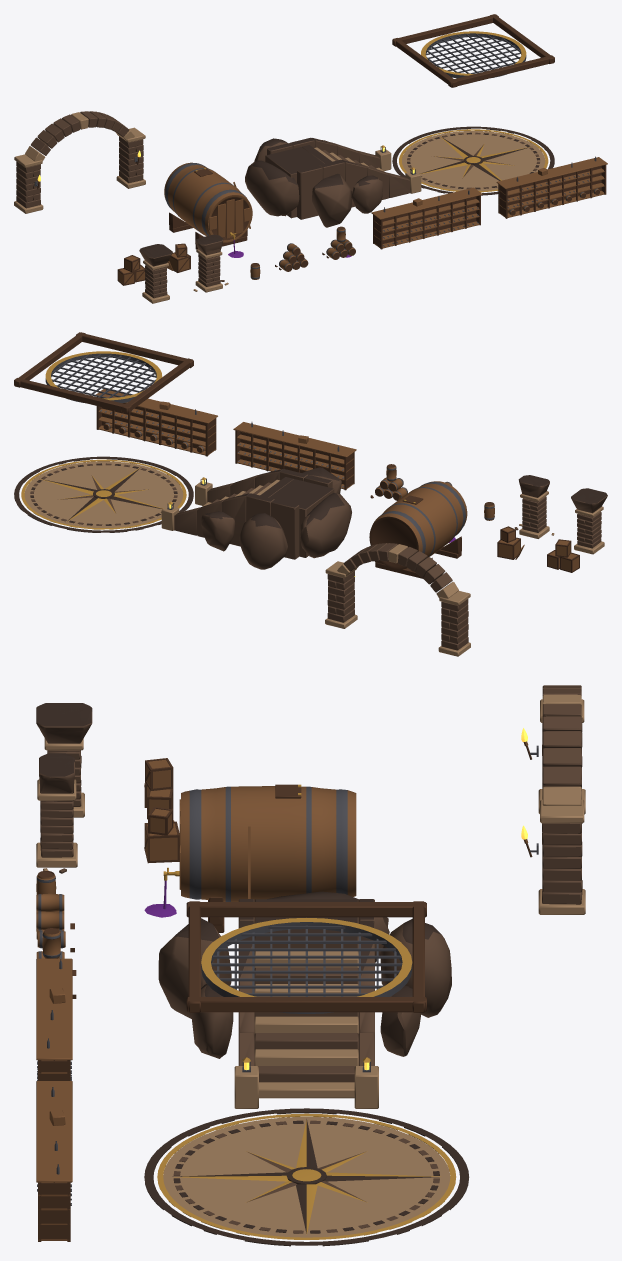
3 renders of one model, top to bottom at view 1: azimuth 30°, elevation 25°; view 2: azimuth 150°, elevation 25°; view 3: azimuth 270°, elevation 25°, orthographic. The views are drawn at different scales.
Parts seen in each view (by area): view 1: well_stairs, well_stairs_mosaic, well_stairs_grate, giant_barrel, wine_rack_b, wine_rack_a, gate_arch, gate_arch_top, brick_pillar_a, brick_pillar_b, crate_stack_a, barrel_stack_b (+2 smaller); view 2: well_stairs, well_stairs_mosaic, well_stairs_grate, giant_barrel, wine_rack_a, wine_rack_b, gate_arch, gate_arch_top, brick_pillar_a, brick_pillar_b, crate_stack_a, barrel_stack_b (+1 smaller); view 3: well_stairs_mosaic, well_stairs, giant_barrel, well_stairs_grate, wine_rack_b, gate_arch, gate_arch_top, wine_rack_a, brick_pillar_b, brick_pillar_a, crate_stack_b, crate_stack_a (+1 smaller).
Boxes of the visible parts, box(x1,y1,x2,y2) form: well_stairs: box(245, 137, 421, 227); well_stairs_mosaic: box(392, 126, 554, 195); well_stairs_grate: box(392, 14, 554, 87); giant_barrel: box(164, 162, 252, 257); wine_rack_b: box(496, 156, 607, 218); wine_rack_a: box(371, 187, 482, 249); gate_arch: box(14, 127, 145, 213); gate_arch_top: box(25, 111, 134, 161); brick_pillar_a: box(139, 244, 172, 303); brick_pillar_b: box(193, 234, 228, 292); crate_stack_a: box(117, 255, 145, 285); barrel_stack_b: box(322, 226, 355, 259); well_stairs: box(161, 467, 351, 569); well_stairs_mosaic: box(14, 456, 193, 532); well_stairs_grate: box(14, 332, 193, 413); giant_barrel: box(369, 481, 467, 578); wine_rack_a: box(233, 422, 356, 490); wine_rack_b: box(96, 389, 217, 456); gate_arch: box(325, 561, 470, 656); gate_arch_top: box(337, 543, 458, 598); brick_pillar_a: box(571, 488, 607, 554); brick_pillar_b: box(514, 475, 554, 538); crate_stack_a: box(547, 539, 579, 572); barrel_stack_b: box(370, 464, 407, 500); well_stairs_mosaic: box(144, 1108, 469, 1246); well_stairs: box(158, 891, 451, 1108); giant_barrel: box(144, 784, 356, 932); well_stairs_grate: box(186, 901, 426, 1013); wine_rack_b: box(36, 1081, 72, 1241); gate_arch: box(521, 699, 585, 914); gate_arch_top: box(542, 685, 581, 805); wine_rack_a: box(36, 958, 72, 1080); brick_pillar_b: box(36, 753, 77, 873); brick_pillar_a: box(36, 703, 92, 817); crate_stack_b: box(144, 807, 179, 863); crate_stack_a: box(144, 758, 173, 819).
Bounding box in the file's own units: 32.74 × 7.93 × 16.92.
